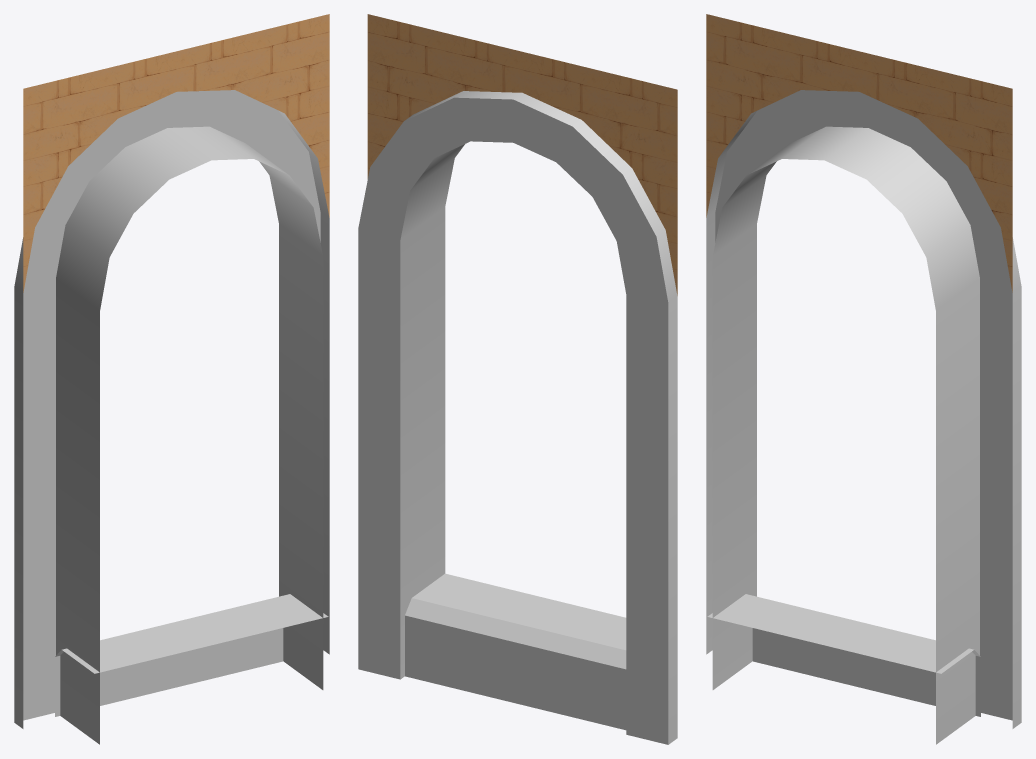
The model's file is Arc_Wall_2x4.fbx.
3 renders of one model, left to right at view 1: azimuth 30°, elevation 25°; view 2: azimuth 150°, elevation 25°; view 3: azimuth 330°, elevation 25°, orthographic.
Parts seen in each view (by area): view 1: Arc_Wall_2x4; view 2: Arc_Wall_2x4; view 3: Arc_Wall_2x4.
Part boxes in pixels (x1,y1,x2,y2): Arc_Wall_2x4: [14, 14, 329, 744]; Arc_Wall_2x4: [358, 14, 677, 744]; Arc_Wall_2x4: [706, 14, 1021, 744].
Bounding box in the file's own units: 200 × 400 × 50.
